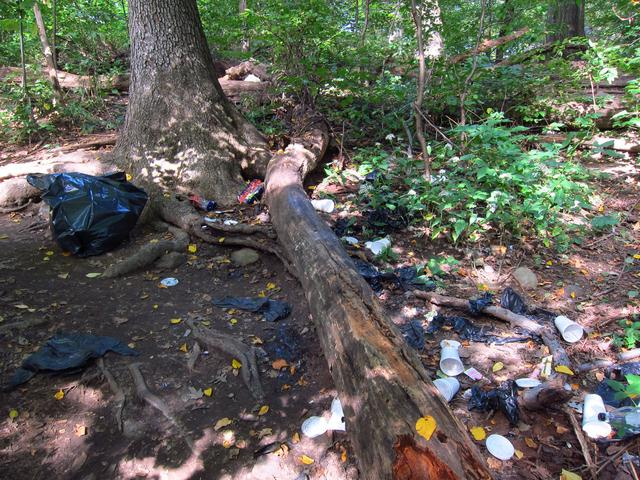garbage: (430, 298, 632, 423)
